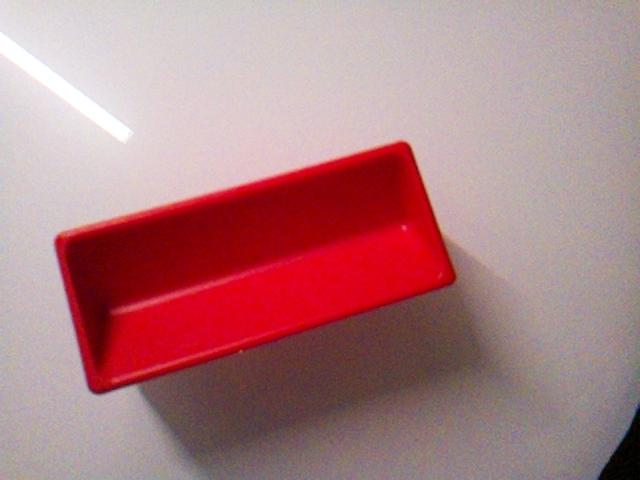red: (53, 139, 458, 395)
